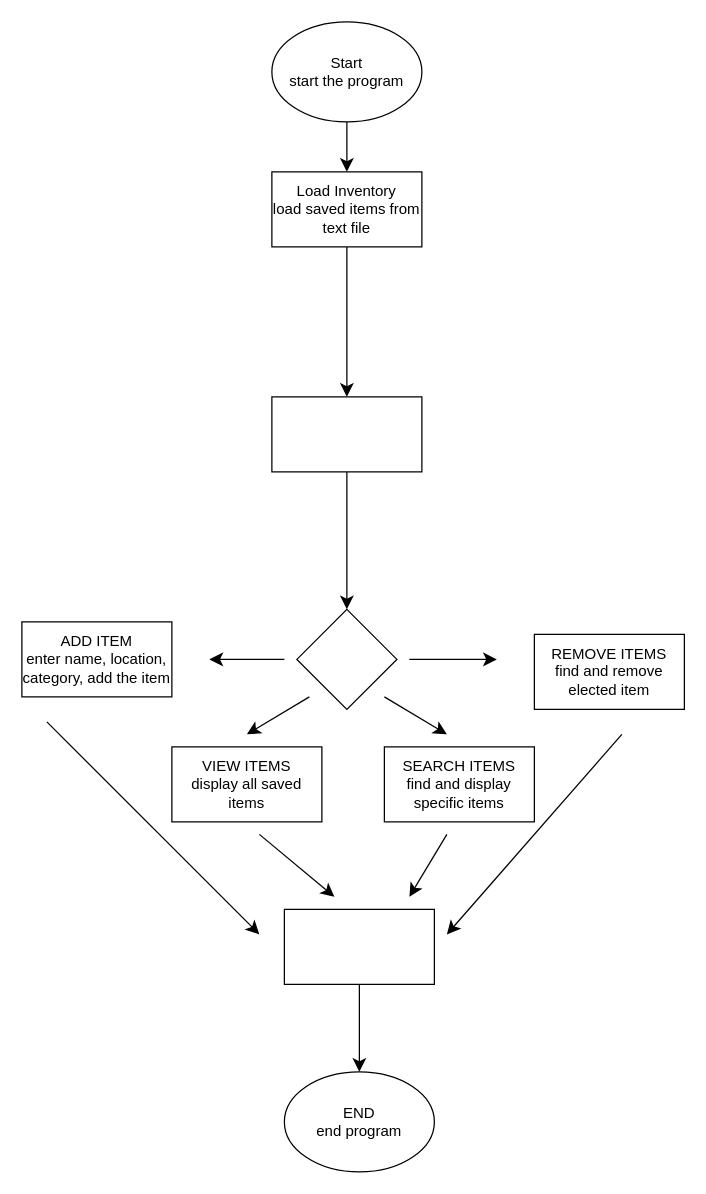
This 706x1194 diagram has some shape labels left out. The centre of each missing label's shape, as x and y in pixels:
"CHOOSE OPTION" goes at point 346,658.
"DISPLAY MENU display main menu" goes at point 346,434.
"SAVE INVENTORY end program if user chooses exit" goes at point 358,946.
